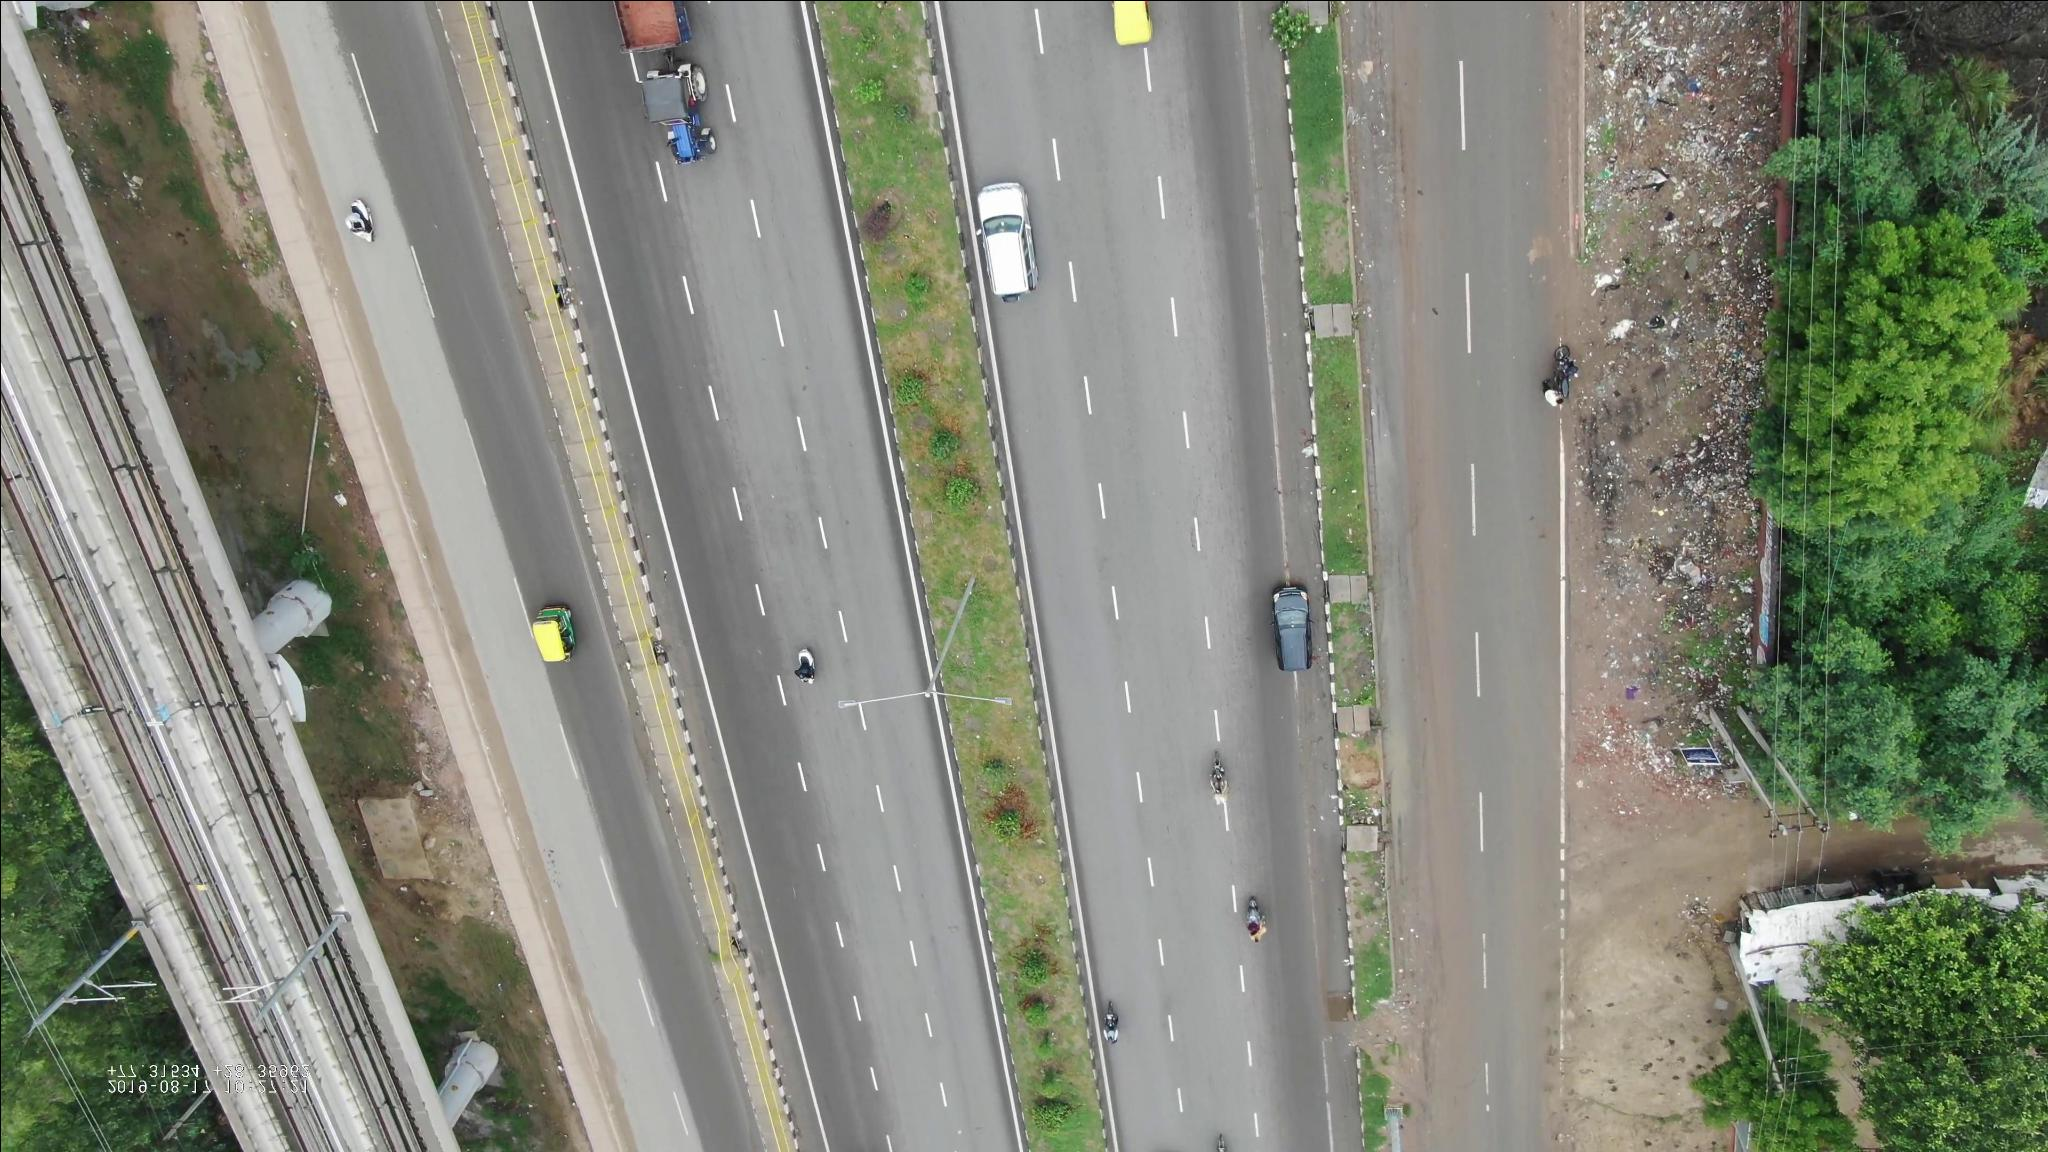Muddy_road: (1384, 852, 1454, 1110)
Road_side_garbage: (1609, 345, 1762, 755), (1589, 18, 1771, 324)
Waterlogging: (1360, 466, 1460, 814)
